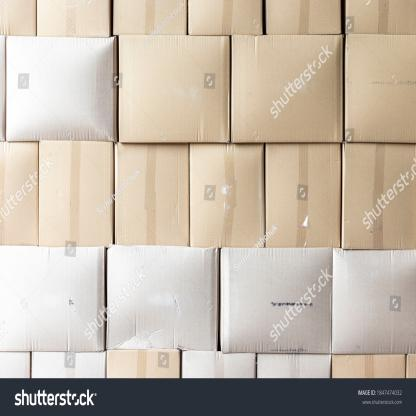box: (231, 36, 342, 143), (119, 35, 229, 142), (107, 248, 218, 352), (5, 38, 114, 142), (221, 250, 330, 353), (0, 245, 104, 351), (331, 250, 416, 353), (265, 143, 340, 248), (345, 33, 416, 143), (341, 145, 416, 249), (114, 143, 189, 246), (39, 140, 113, 244), (191, 145, 264, 247), (0, 141, 38, 244)
